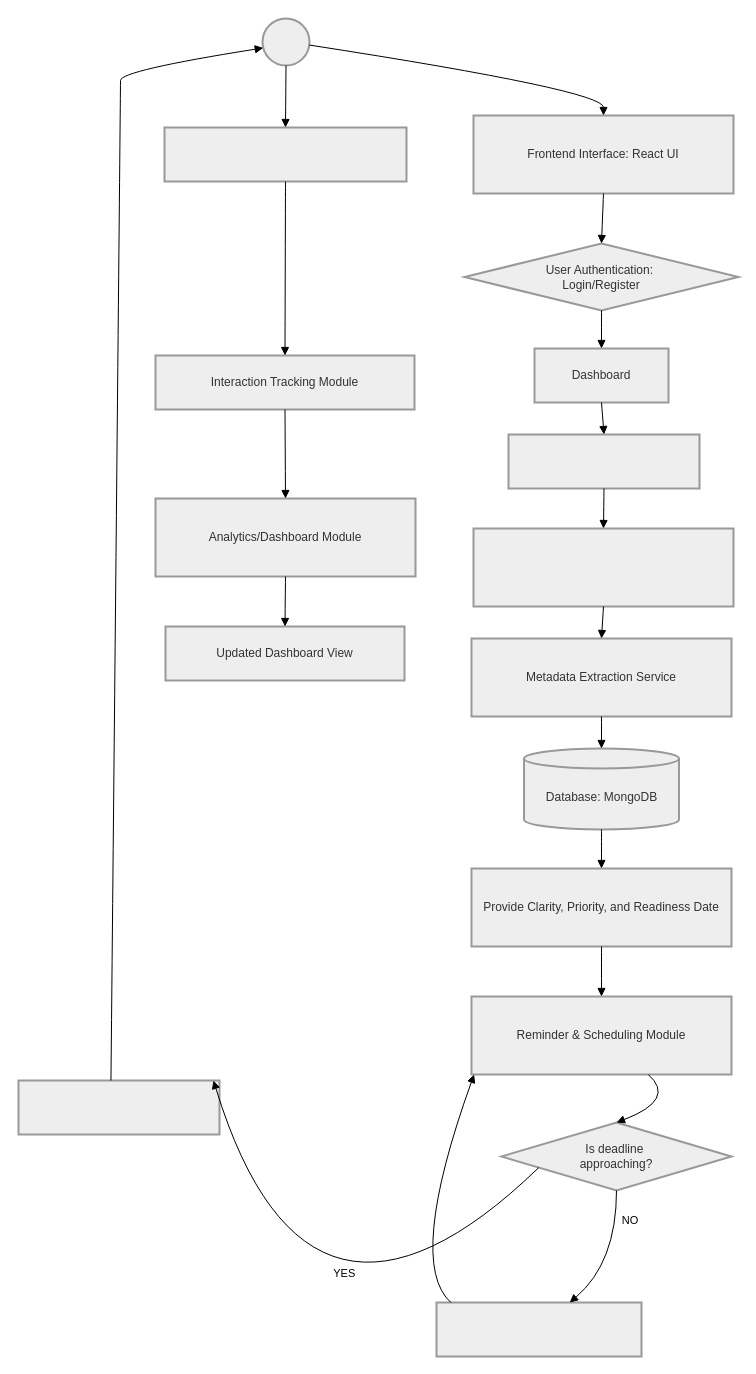
Image size: 756x1374. Some labels were removed from this diagram. The box of each missing label's shape, as (x1, y1, x2, y2) in pixels:
Add Learning Item: (507, 433, 700, 489)
Backend Server: Node.js / Express API: (472, 527, 734, 607)
Continue Monitoring: (435, 1301, 642, 1357)
Notification Module: (17, 1079, 220, 1135)
Revisit Learning Resource: (163, 126, 407, 182)
User: (261, 17, 310, 66)
